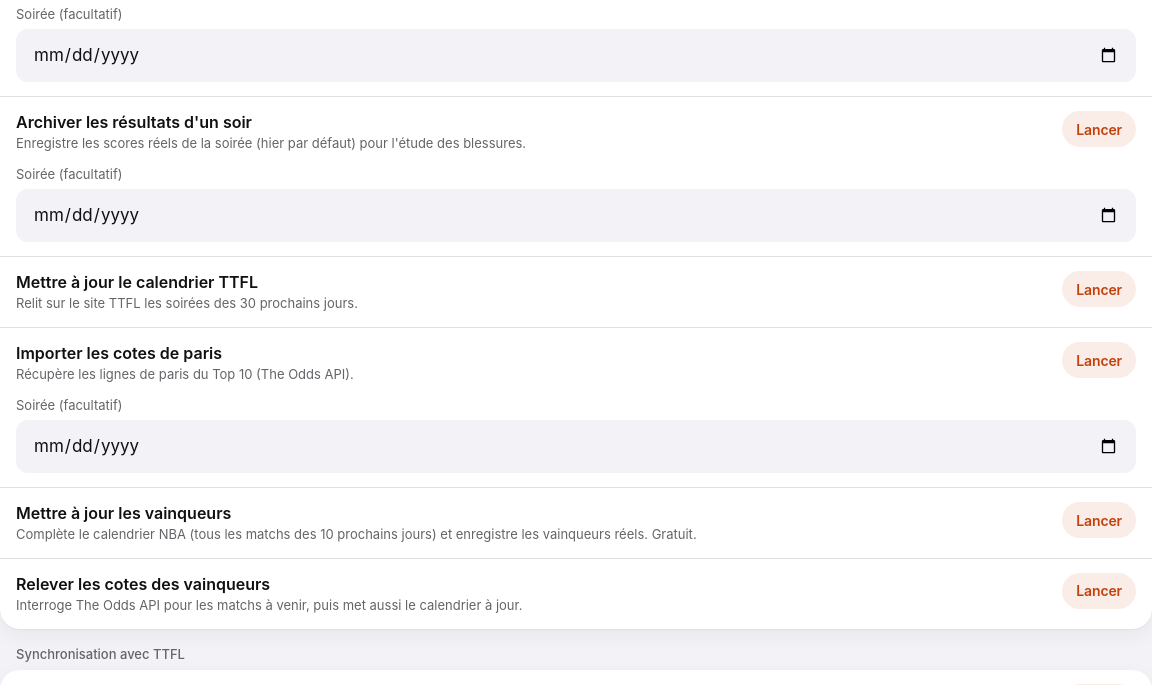
Test: ActionsPC › l'import des cotes prévient qu'il consomme du quota
(page scrolled)
Click the button with aria-label "Lancer : Importer les cotes de paris".
click(1099, 360)  # box [1062,342,1136,378]
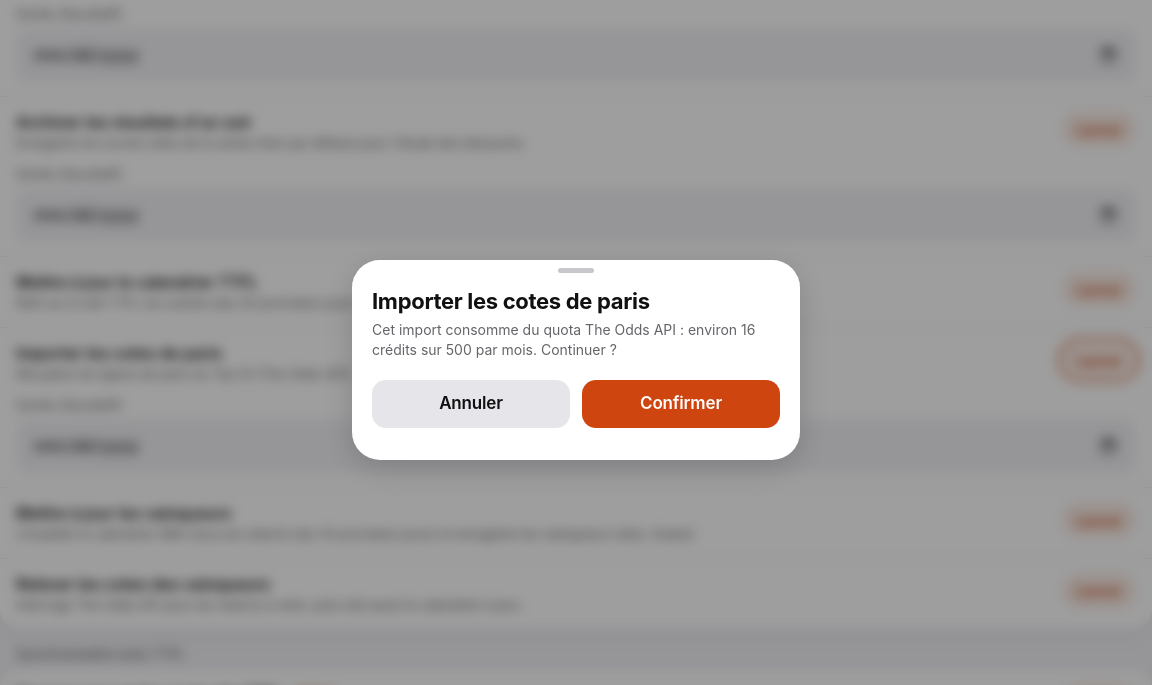
Expected: the text "quota The Odds API" is shown, [372,321,756,358]
